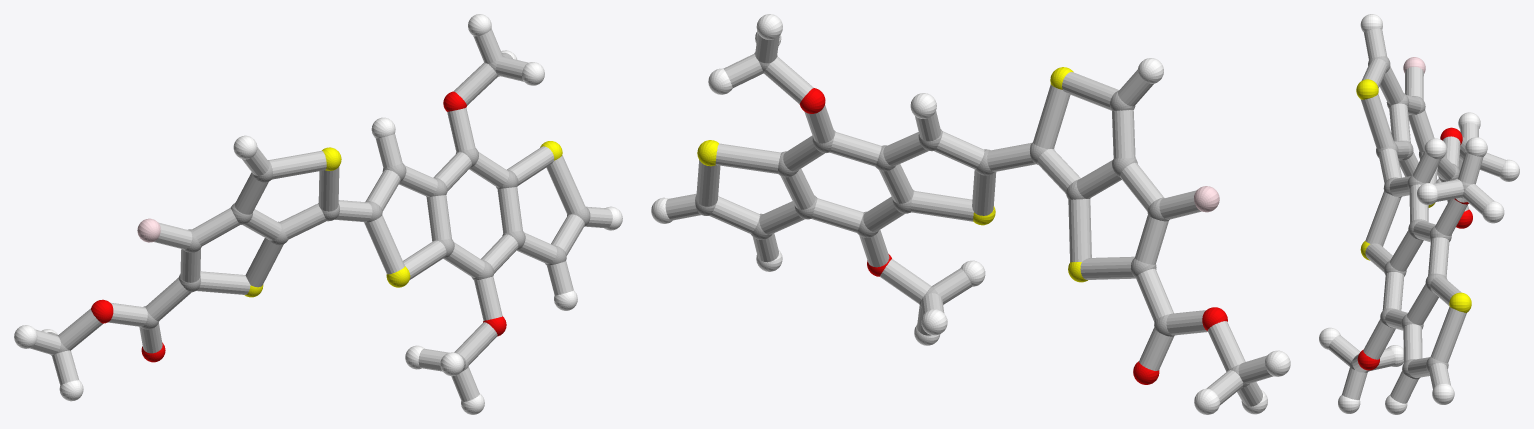
Rendered from Dimethoxy_Benzodithiophene_Phi_10_Theta_310_Methylcarbonyl_3_Fluoro_Thienothiophene.glb.
3 views of the same model, side by side, from view 1: azimuth 30°, elevation 25°; view 2: azimuth 150°, elevation 25°; view 3: azimuth 270°, elevation 25° (orthographic). The views are drawn at different scales.
Parts seen in each view (by area): view 1: grp15205, grp8689, grp1, grp13395, grp7241; view 2: grp15205, grp8689, grp1, grp13395, grp7241; view 3: grp15205, grp8689, grp1, grp7241, grp13395, grp14843.
Boxes of the visible parts, <box> form: grp15205: <box>30,29,612,401</box>; grp8689: <box>14,14,622,414</box>; grp1: <box>51,56,590,370</box>; grp13395: <box>91,91,506,362</box>; grp7241: <box>244,141,562,297</box>; grp15205: <box>665,33,1273,406</box>; grp8689: <box>651,14,1290,414</box>; grp1: <box>695,52,1249,388</box>; grp13395: <box>799,88,1227,384</box>; grp7241: <box>697,67,1087,282</box>; grp15205: <box>1328,28,1505,403</box>; grp8689: <box>1319,14,1519,414</box>; grp1: <box>1349,56,1470,379</box>; grp7241: <box>1356,79,1471,312</box>; grp13395: <box>1357,127,1472,370</box>; grp14843: <box>1403,57,1425,73</box>.
Size of the model in its own units: 17.09 by 9.13 by 5.38.
